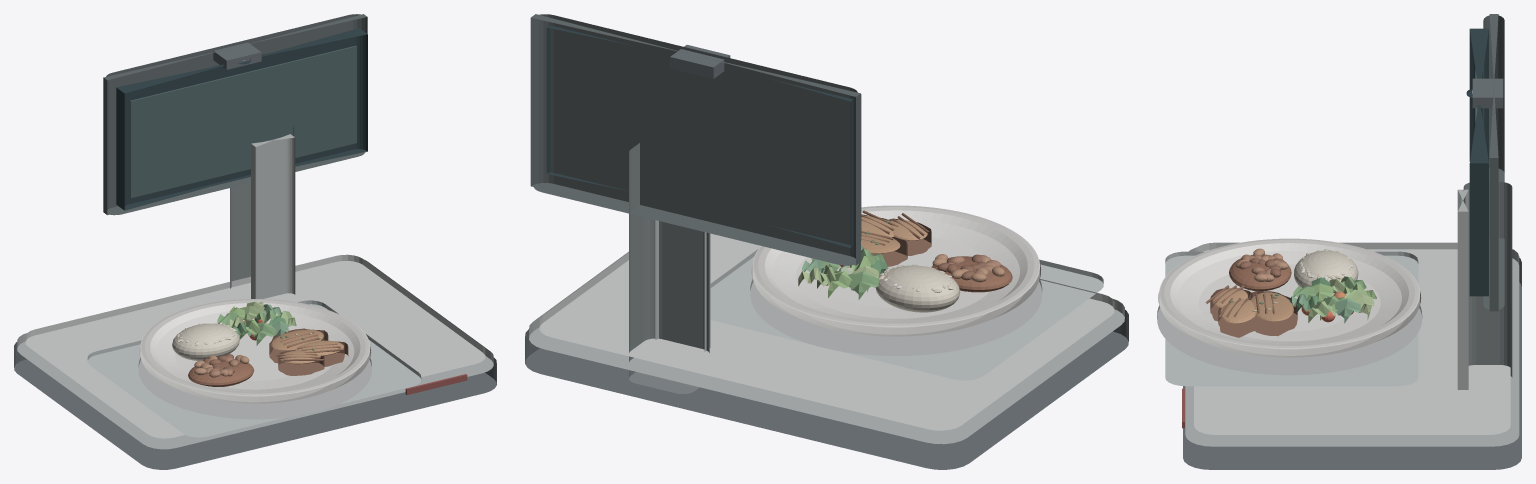
The model's file is Bovinus_Balanca_e_Prato_3D.glb.
The picture shows the model from 3 angles, left to right: view 1: azimuth 30°, elevation 25°; view 2: azimuth 150°, elevation 25°; view 3: azimuth 270°, elevation 25°; orthographic projection. The views are drawn at different scales.
Visible parts, largest first — view 1: 010_LCD refletivo, 003_Plataforma superior, 001_Corpo principal — grafite, 009_Vidro frontal, 016_Prato cerâmico — face intern, 007_Face metálica da coluna, 008_Estrutura do visor, 004_Área de pesagem em aço, 002_Borda metálica acetinada, 014_Sombra do prato, 017_Filete de acabamento, 006_Coluna traseira (+9 smaller); view 2: 008_Estrutura do visor, 003_Plataforma superior, 001_Corpo principal — grafite, 006_Coluna traseira, 016_Prato cerâmico — face intern, 004_Área de pesagem em aço, 002_Borda metálica acetinada, 014_Sombra do prato, 017_Filete de acabamento, 018_Arroz branco volumétrico, 015_Prato cerâmico — base, 009_Vidro frontal (+7 smaller); view 3: 003_Plataforma superior, 016_Prato cerâmico — face intern, 001_Corpo principal — grafite, 004_Área de pesagem em aço, 002_Borda metálica acetinada, 014_Sombra do prato, 009_Vidro frontal, 006_Coluna traseira, 008_Estrutura do visor, 017_Filete de acabamento, 007_Face metálica da coluna, 015_Prato cerâmico — base (+14 smaller).
Part boxes in pixels (bbox=[...]): 010_LCD refletivo: bbox=[130, 45, 356, 198]; 003_Plataforma superior: bbox=[25, 254, 485, 438]; 001_Corpo principal — grafite: bbox=[14, 342, 496, 469]; 009_Vidro frontal: bbox=[116, 28, 367, 210]; 016_Prato cerâmico — face intern: bbox=[140, 303, 370, 395]; 007_Face metálica da coluna: bbox=[251, 134, 295, 298]; 008_Estrutura do visor: bbox=[103, 14, 367, 215]; 004_Área de pesagem em aço: bbox=[87, 300, 421, 437]; 002_Borda metálica acetinada: bbox=[17, 260, 493, 449]; 014_Sombra do prato: bbox=[138, 358, 371, 419]; 017_Filete de acabamento: bbox=[141, 299, 369, 395]; 006_Coluna traseira: bbox=[230, 126, 294, 288]; 008_Estrutura do visor: bbox=[530, 14, 860, 265]; 003_Plataforma superior: bbox=[539, 233, 1114, 430]; 001_Corpo principal — grafite: bbox=[525, 310, 1128, 469]; 006_Coluna traseira: bbox=[629, 143, 709, 393]; 016_Prato cerâmico — face intern: bbox=[752, 210, 1039, 326]; 004_Área de pesagem em aço: bbox=[710, 249, 1103, 380]; 002_Borda metálica acetinada: bbox=[529, 251, 1124, 444]; 014_Sombra do prato: bbox=[750, 279, 1042, 355]; 017_Filete de acabamento: bbox=[753, 205, 1038, 325]; 018_Arroz branco volumétrico: bbox=[875, 265, 960, 312]; 015_Prato cerâmico — base: bbox=[751, 263, 1041, 336]; 009_Vidro frontal: bbox=[546, 25, 861, 247]; 003_Plataforma superior: bbox=[1194, 242, 1510, 434]; 016_Prato cerâmico — face intern: bbox=[1159, 243, 1419, 348]; 001_Corpo principal — grafite: bbox=[1183, 258, 1521, 469]; 004_Área de pesagem em aço: bbox=[1165, 251, 1418, 386]; 002_Borda metálica acetinada: bbox=[1185, 247, 1519, 446]; 014_Sombra do prato: bbox=[1157, 305, 1422, 375]; 009_Vidro frontal: bbox=[1469, 28, 1488, 296]; 006_Coluna traseira: bbox=[1463, 182, 1512, 377]; 008_Estrutura do visor: bbox=[1483, 14, 1504, 311]; 017_Filete de acabamento: bbox=[1160, 238, 1418, 347]; 007_Face metálica da coluna: bbox=[1457, 189, 1468, 389]; 015_Prato cerâmico — base: bbox=[1158, 291, 1420, 357].
Bounding box in the file's own units: 4.56 × 3.49 × 3.6.
